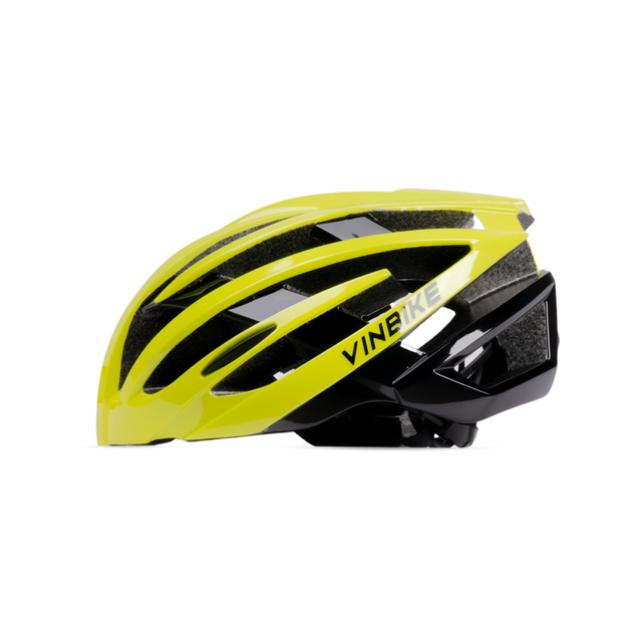Helmet: (92, 184, 562, 453)
